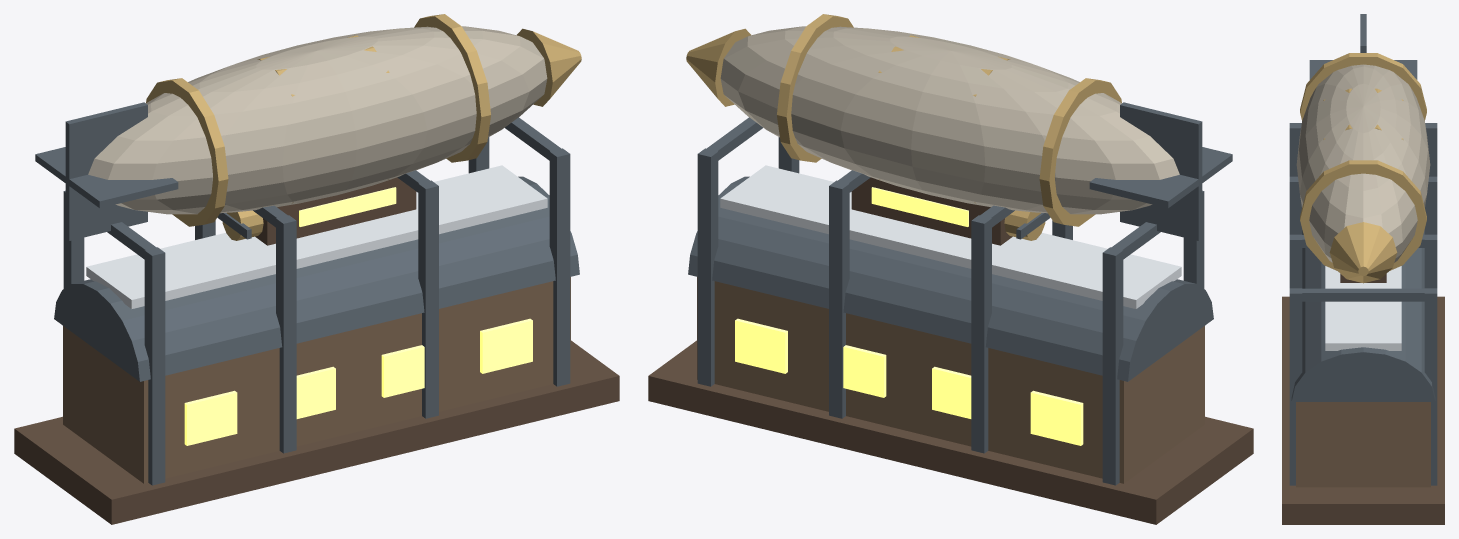
The model's file is flying_hunters.glb.
3 views of the same model, side by side, from view 1: azimuth 30°, elevation 25°; view 2: azimuth 150°, elevation 25°; view 3: azimuth 270°, elevation 25° (orthographic). The views are drawn at different scales.
Visible parts, largest first — view 1: FlyingHunters; view 2: FlyingHunters; view 3: FlyingHunters.
Part boxes in pixels (x1,y1,x2,y2): FlyingHunters: [14, 14, 619, 524]; FlyingHunters: [648, 14, 1253, 524]; FlyingHunters: [1282, 14, 1444, 524].
Size of the model in its own units: 4.71 by 3.29 by 1.54.
